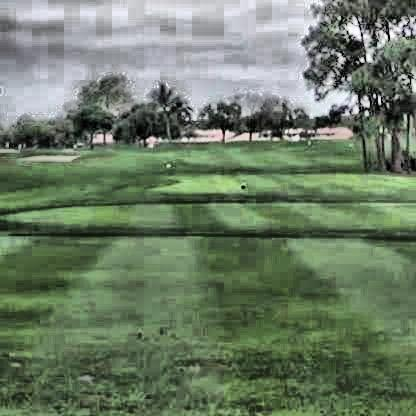golfball: (208, 101, 218, 110)
